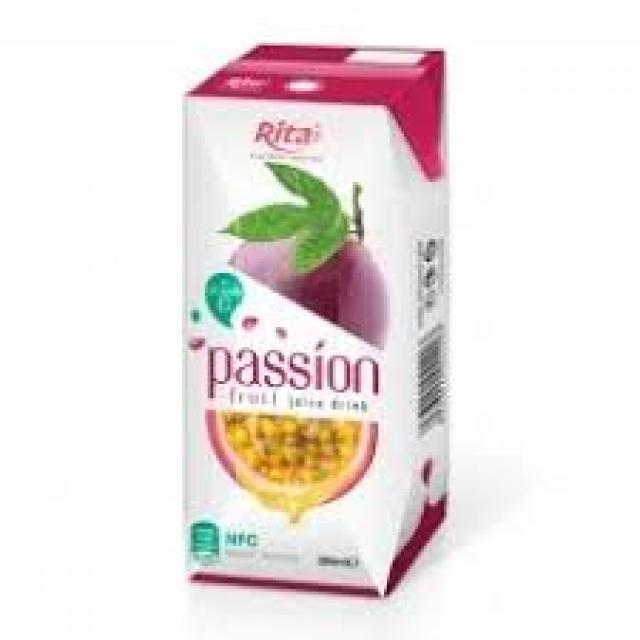non_white_jug: (162, 23, 452, 617)
